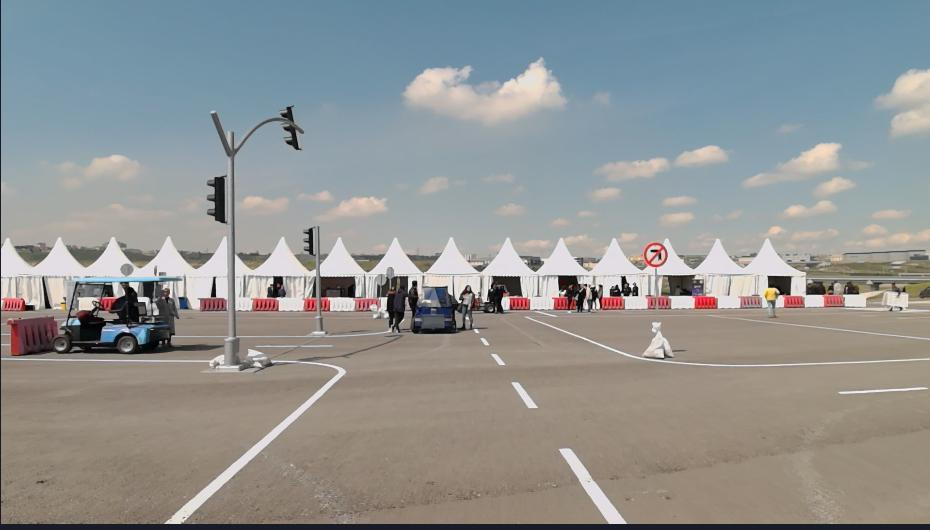nesne: (167, 310, 929, 524), (168, 307, 624, 525), (475, 313, 928, 526), (163, 359, 346, 524), (520, 314, 927, 366), (48, 272, 180, 353), (560, 448, 628, 526), (730, 315, 929, 340), (600, 294, 762, 308), (409, 284, 455, 332), (9, 315, 58, 356), (641, 319, 679, 360), (774, 292, 869, 308), (0, 356, 210, 362), (240, 330, 391, 337), (158, 287, 179, 337), (456, 283, 477, 330), (880, 284, 910, 312), (322, 296, 377, 311), (509, 379, 537, 408), (835, 385, 924, 394), (393, 282, 405, 336), (764, 281, 781, 317), (643, 243, 668, 267), (485, 281, 503, 311), (385, 284, 396, 330), (583, 279, 598, 311), (254, 343, 331, 349), (573, 277, 586, 311), (470, 296, 494, 314), (563, 281, 575, 312), (623, 296, 648, 310), (252, 297, 277, 311), (717, 293, 740, 308), (407, 278, 418, 308), (669, 296, 694, 309), (647, 295, 672, 308), (530, 298, 555, 311), (279, 299, 304, 312), (807, 277, 828, 292), (199, 298, 223, 311), (509, 296, 531, 310), (355, 297, 377, 310), (782, 295, 805, 307), (331, 299, 354, 311), (370, 304, 388, 319), (845, 295, 865, 308), (173, 333, 225, 338), (1, 298, 22, 310), (603, 298, 624, 310), (234, 298, 253, 311), (741, 295, 761, 307), (695, 295, 716, 306), (823, 295, 844, 306), (828, 277, 842, 293), (803, 295, 823, 306), (551, 297, 567, 310), (491, 351, 505, 365), (842, 280, 857, 293), (598, 279, 604, 308), (629, 278, 639, 295), (321, 296, 331, 311), (477, 335, 490, 346), (609, 282, 620, 294), (499, 297, 510, 309), (302, 299, 313, 311), (775, 294, 784, 306), (621, 282, 630, 294)
